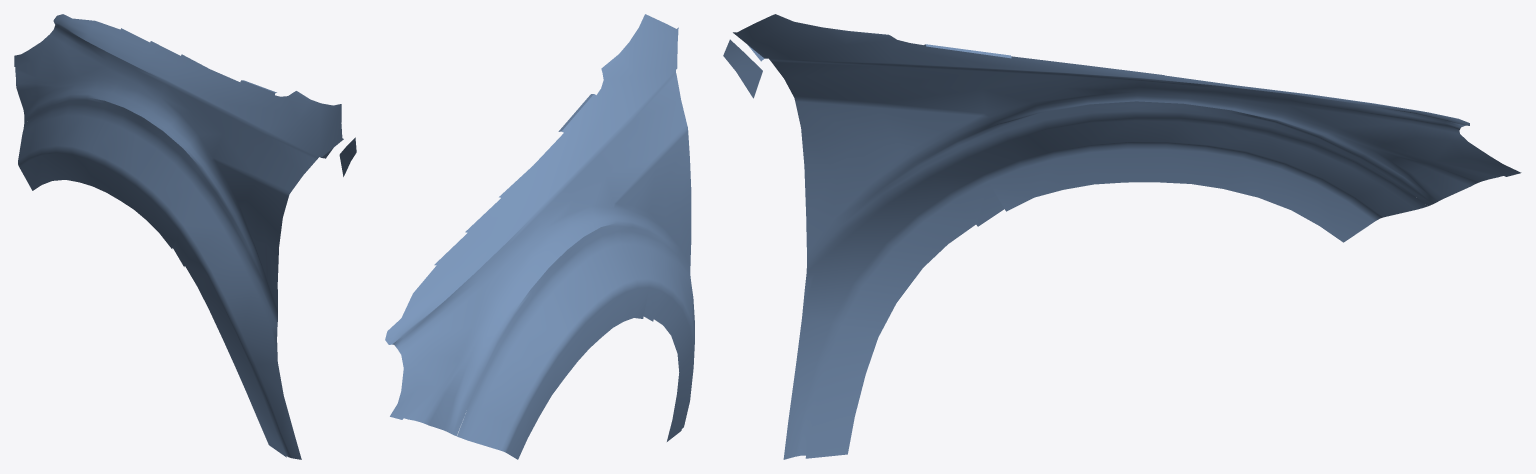
Rendered from fender.fbx.
The picture shows the model from 3 angles, left to right: view 1: azimuth 30°, elevation 25°; view 2: azimuth 150°, elevation 25°; view 3: azimuth 270°, elevation 25°; orthographic projection. The views are drawn at different scales.
Parts seen in each view (by area): view 1: chassis_001.011; view 2: chassis_001.011; view 3: chassis_001.011.
Part boxes in pixels (x1,y1,x2,y2): chassis_001.011: (14,14,356,459); chassis_001.011: (385,14,694,459); chassis_001.011: (723,14,1521,459).
Bounding box in the file's own units: 29.8 × 101 × 154.
